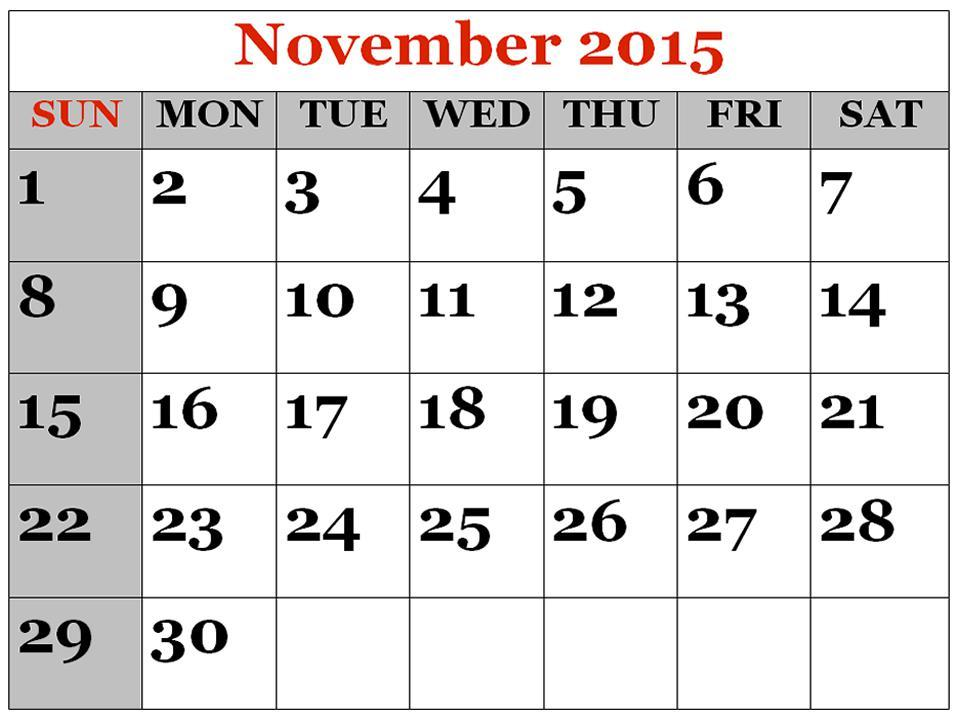calendar: (1, 0, 960, 720)
